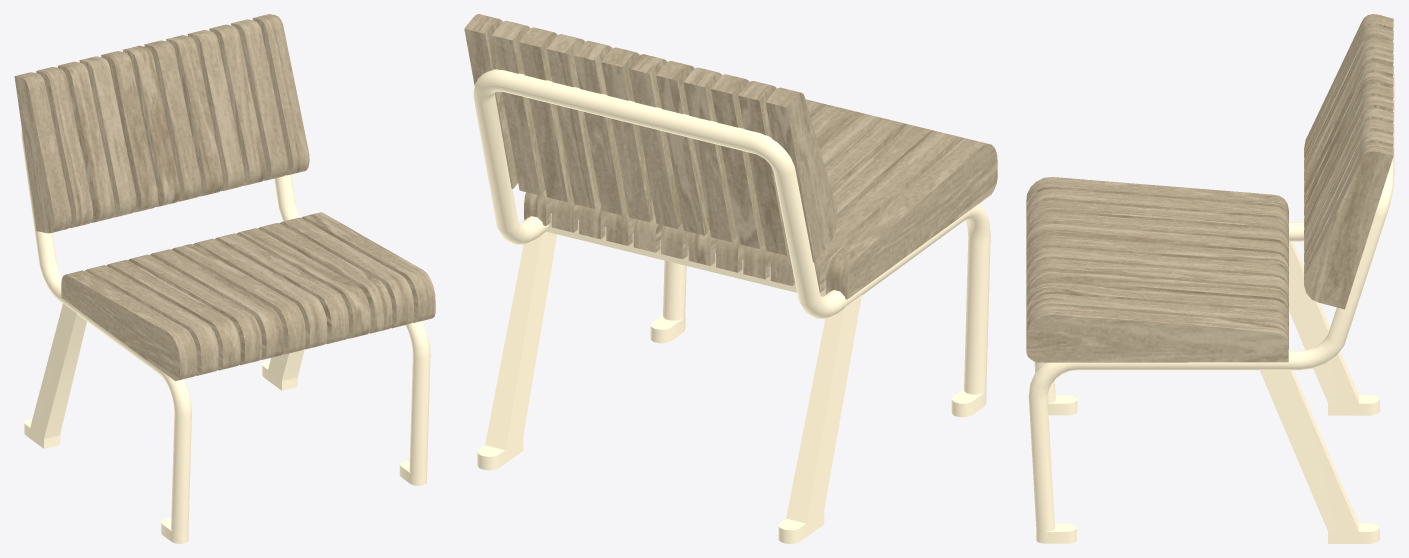
File: stul-compressed.glb
The picture shows the model from 3 angles, left to right: view 1: azimuth 30°, elevation 25°; view 2: azimuth 150°, elevation 25°; view 3: azimuth 270°, elevation 25°; orthographic projection. The views are drawn at different scales.
Visible parts, largest first — view 1: Cube004, Cube004_1; view 2: Cube004, Cube004_1; view 3: Cube004, Cube004_1.
Part boxes in pixels (<box>): Cube004: <box>14,14,435,380</box>; Cube004_1: <box>21,128,430,543</box>; Cube004: <box>464,14,997,299</box>; Cube004_1: <box>473,69,990,543</box>; Cube004: <box>1026,14,1393,362</box>; Cube004_1: <box>1028,72,1394,543</box>.
Bounding box in the file's own units: 0.6326 × 0.8407 × 0.7146.
2 materials, 1 textured.
